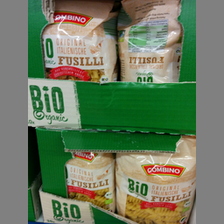pasta: (42, 1, 119, 82), (118, 150, 196, 224), (118, 1, 183, 83), (65, 149, 116, 210)
